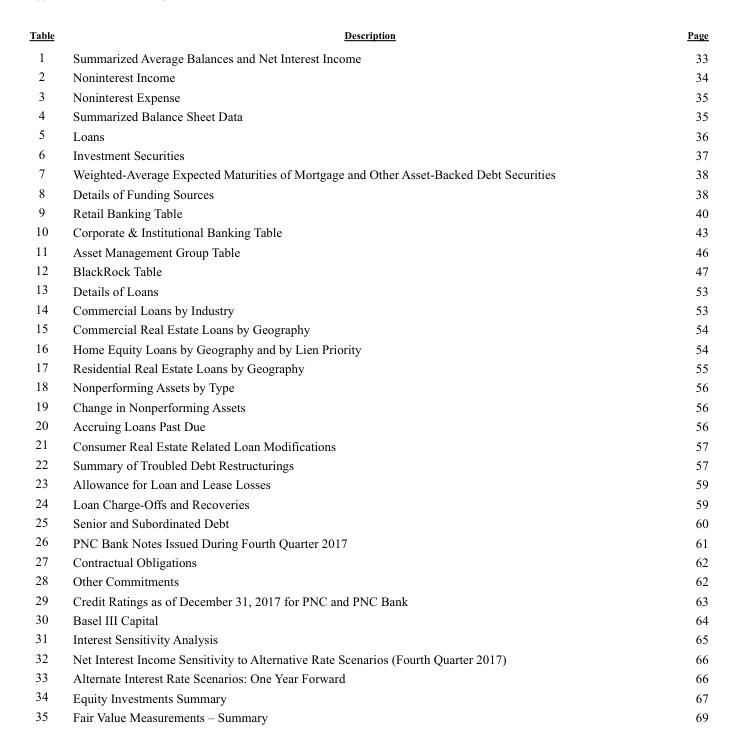table: (28, 28, 707, 723)
table column: (62, 28, 620, 723), (620, 28, 707, 723), (28, 28, 62, 723)
table column header: (28, 28, 707, 44)
table row: (28, 44, 707, 66), (28, 66, 707, 86), (28, 124, 707, 144), (28, 163, 707, 183), (28, 221, 707, 241), (28, 279, 707, 299), (28, 318, 707, 338), (28, 376, 707, 396), (28, 415, 707, 435), (28, 473, 707, 493), (28, 531, 707, 551), (28, 570, 707, 590), (28, 628, 707, 648), (28, 686, 707, 706), (28, 86, 707, 105), (28, 105, 707, 124), (28, 144, 707, 163), (28, 183, 707, 202), (28, 202, 707, 221), (28, 241, 707, 260), (28, 260, 707, 279), (28, 299, 707, 318), (28, 338, 707, 357), (28, 357, 707, 376), (28, 396, 707, 415), (28, 435, 707, 454), (28, 454, 707, 473), (28, 493, 707, 512), (28, 512, 707, 531), (28, 551, 707, 570), (28, 590, 707, 609), (28, 609, 707, 628), (28, 648, 707, 667), (28, 667, 707, 686), (28, 706, 707, 723), (28, 28, 707, 44)
